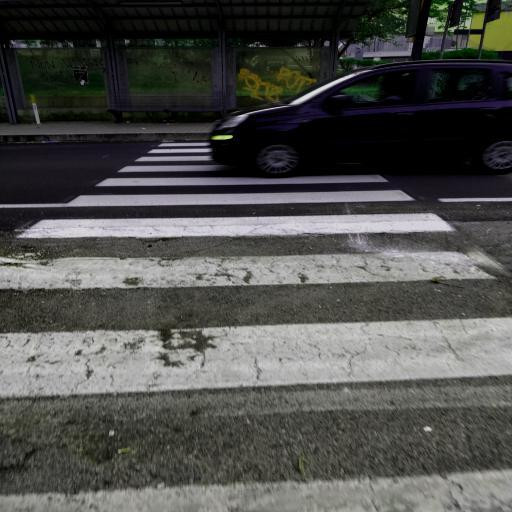crosswalk: (0, 242, 512, 404), (90, 164, 414, 190)
